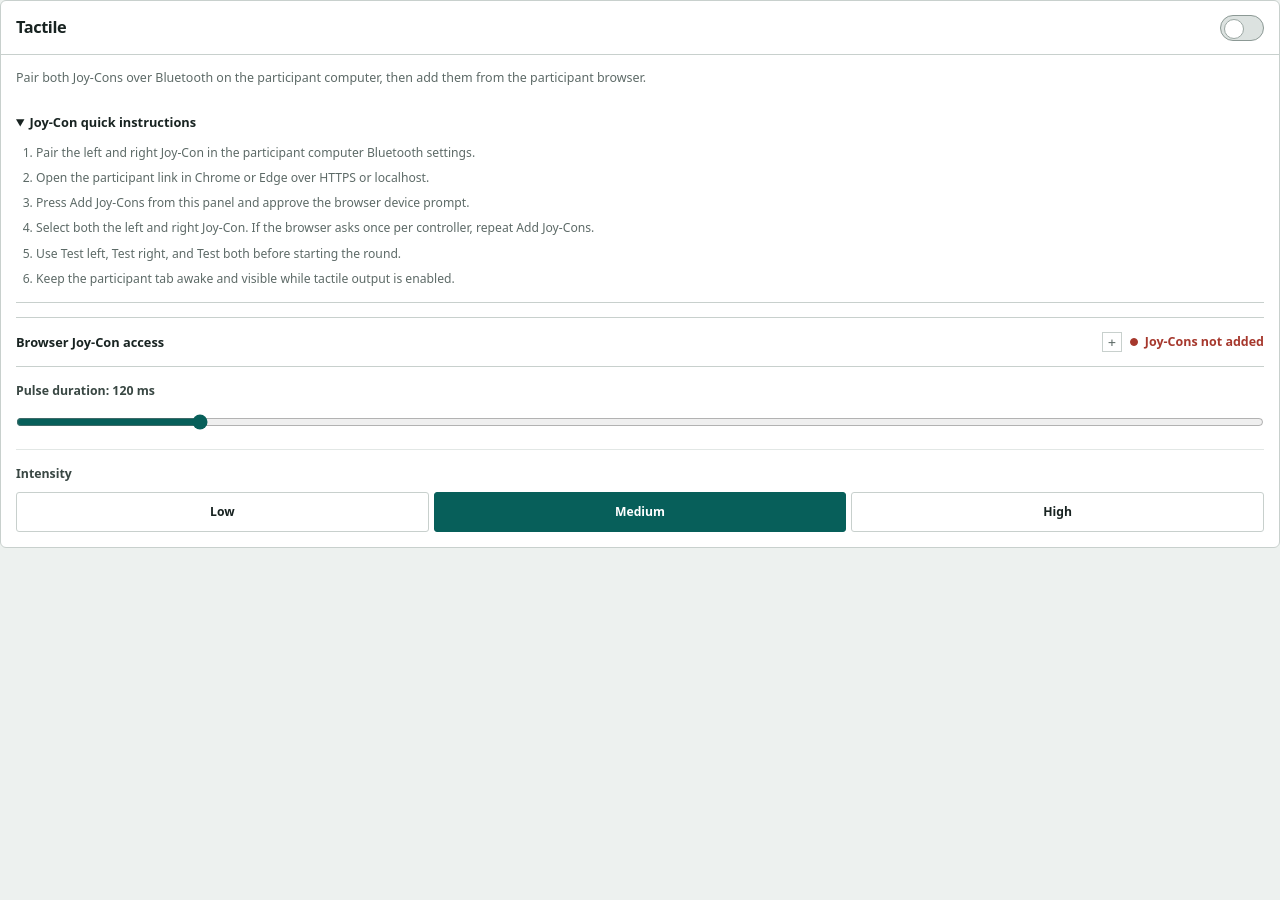
Scenario: TactilePanel › collapses the Joy-Con status block when requested
The image size is (1280, 900).
Expected: the text "Browser Joy-Con access" is shown, left=16, top=332, right=164, bottom=352
Expected: the text "Left Joy-Con" is not shown
Click the button "Browser Joy-Con access + Joy-Cons not added".
click(90, 342)  # box left=16, top=318, right=1264, bottom=366
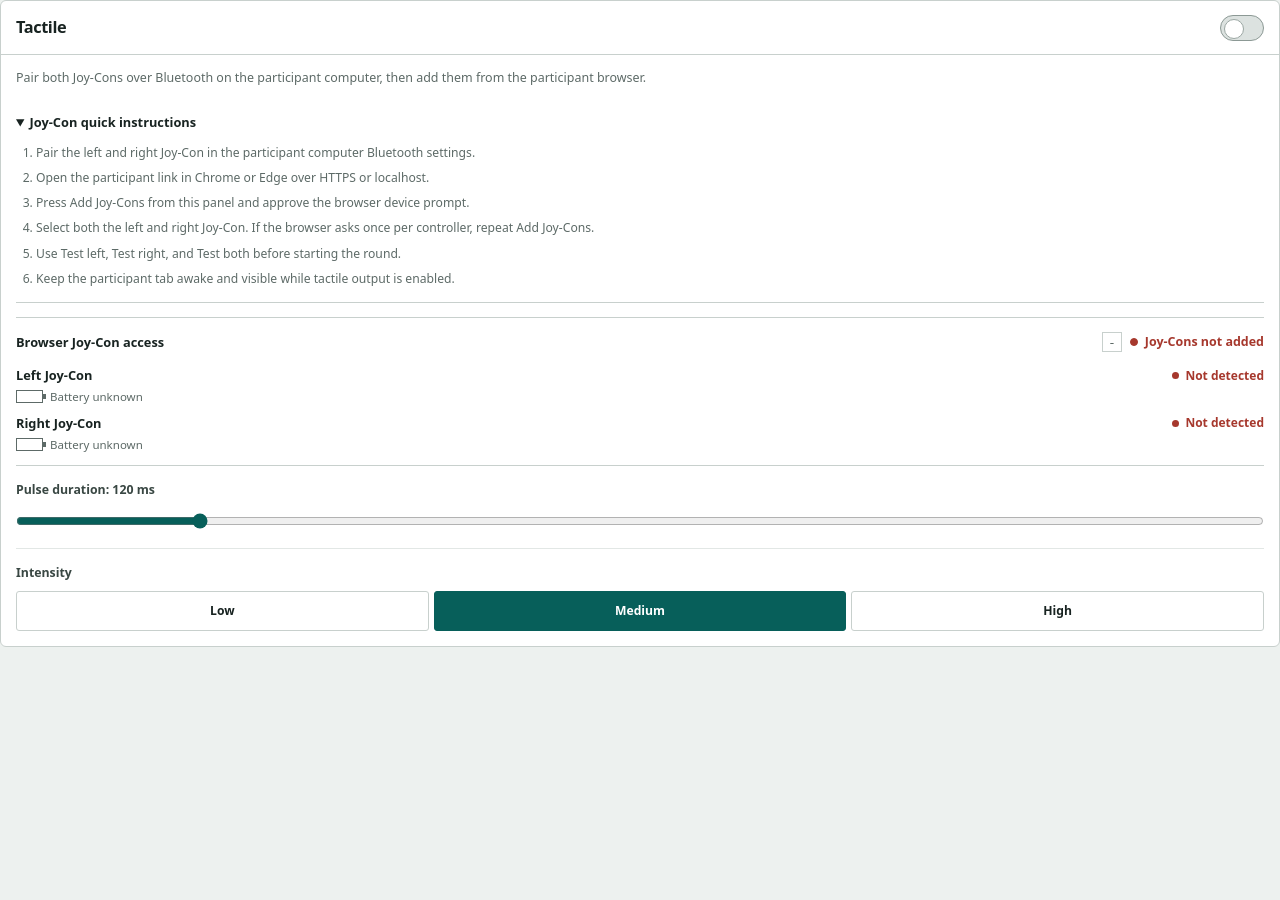
Expected: the text "Left Joy-Con" is shown, left=16, top=366, right=92, bottom=384
Expected: the text "Right Joy-Con" is shown, left=16, top=414, right=102, bottom=432
